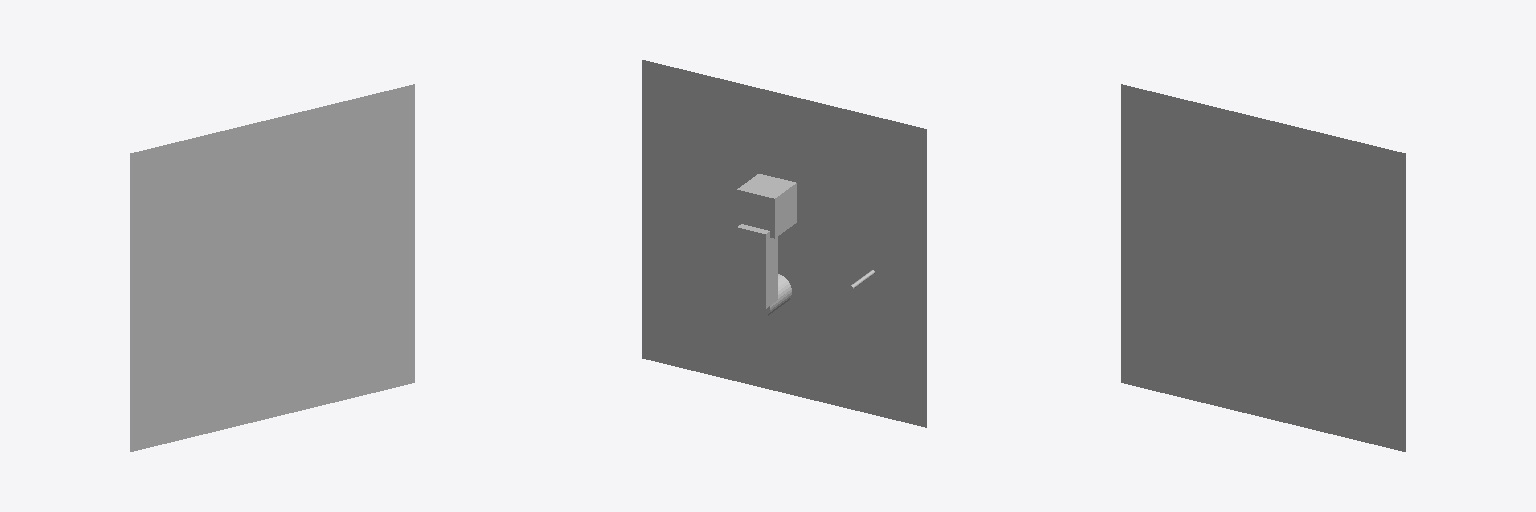
Rendered from 2bounce_test_geo4.obj.
The picture shows the model from 3 angles: view 1: azimuth 30°, elevation 25°; view 2: azimuth 150°, elevation 25°; view 3: azimuth 330°, elevation 25°; orthographic projection.
Visible parts, largest first — view 1: Plane; view 2: Plane, Cube.001_Cube.008, Cube_Cube.007, Cylinder_Cylinder.001; view 3: Plane.
Boxes of the visible parts, box(x1,y1,x2,y2) form: Plane: box(130, 84, 414, 451); Plane: box(642, 60, 926, 427); Cube.001_Cube.008: box(737, 224, 777, 308); Cube_Cube.007: box(737, 174, 796, 238); Cylinder_Cylinder.001: box(742, 274, 791, 319); Plane: box(1121, 84, 1405, 451).
Bounding box in the file's own units: 15 × 15 × 3.03.